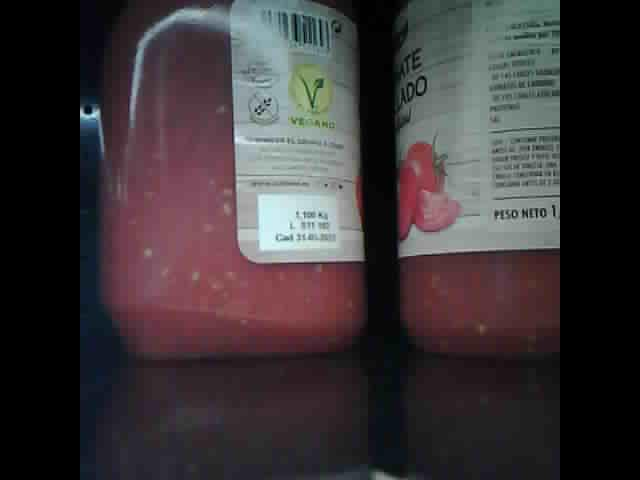tomate: (98, 3, 366, 365), (399, 5, 557, 358)
